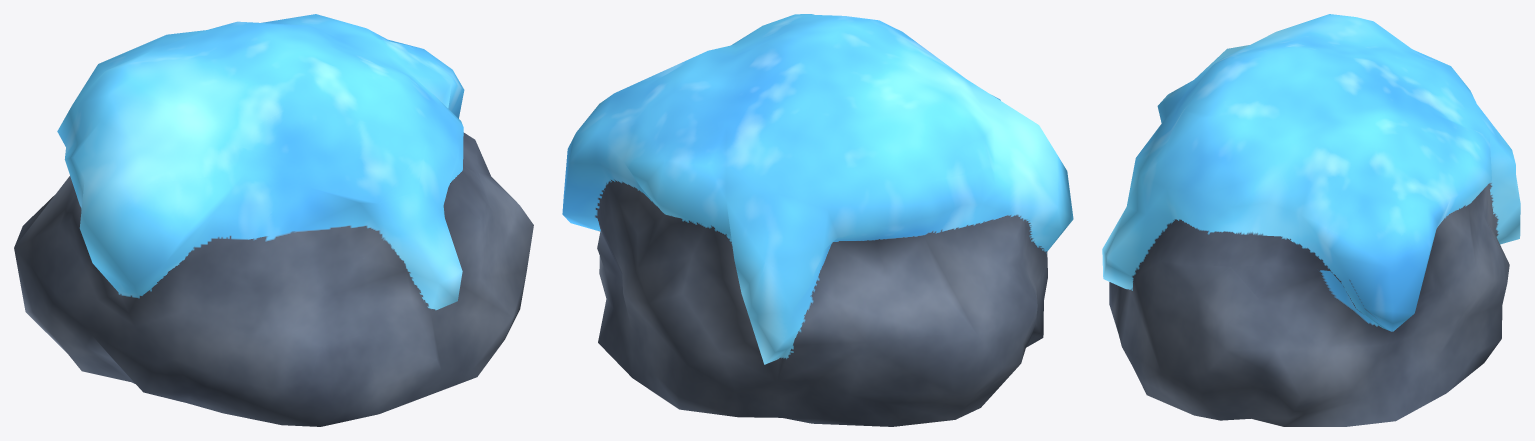
Rendered from SM_Rock_Ice_1.glb.
3 views of the same model, side by side, from view 1: azimuth 30°, elevation 25°; view 2: azimuth 150°, elevation 25°; view 3: azimuth 270°, elevation 25° (orthographic). The views are drawn at different scales.
Parts seen in each view (by area): view 1: SM_Rock_Ice_1; view 2: SM_Rock_Ice_1; view 3: SM_Rock_Ice_1.
Boxes of the visible parts, box(x1,y1,x2,y2) form: SM_Rock_Ice_1: box(14, 14, 533, 426); SM_Rock_Ice_1: box(562, 14, 1073, 426); SM_Rock_Ice_1: box(1102, 14, 1520, 426).
Bounding box in the file's own units: 1.65 × 1.12 × 1.47.
1 material, 1 textured.
